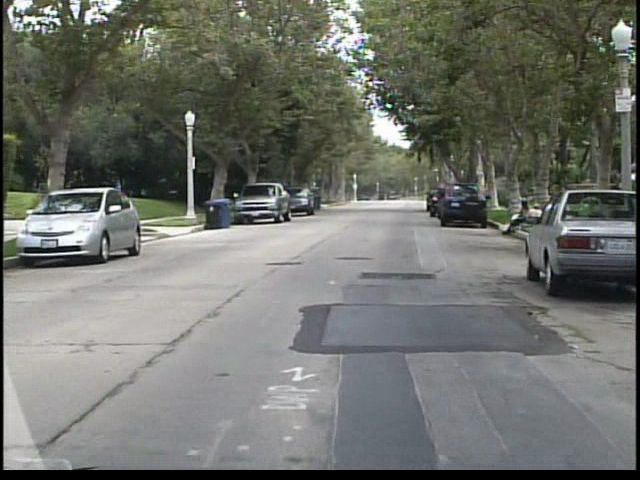person: (500, 197, 533, 238), (523, 203, 544, 236)
